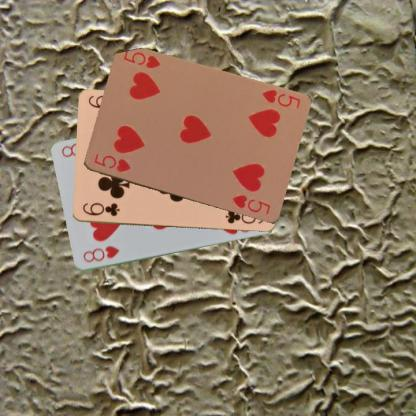5h: (260, 87, 302, 110), (91, 151, 132, 174)
6c: (80, 200, 121, 218)
8h: (80, 243, 121, 264)
